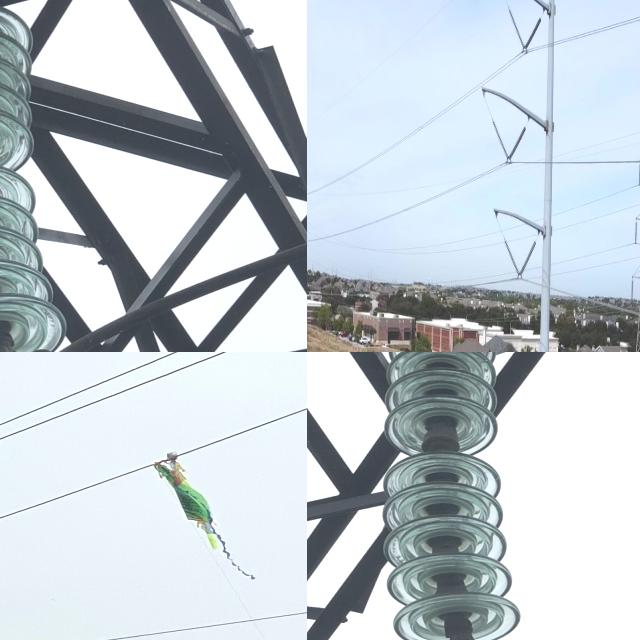植被遮挡: (150, 450, 262, 582)
正常绝缘子: (366, 352, 527, 640), (0, 0, 76, 352), (506, 7, 529, 56), (490, 116, 512, 164), (503, 125, 529, 164), (503, 237, 525, 281), (521, 14, 543, 55), (515, 240, 537, 281), (625, 271, 640, 318), (630, 214, 640, 252), (633, 157, 640, 194)
绝缘子破损: (418, 429, 462, 450)
